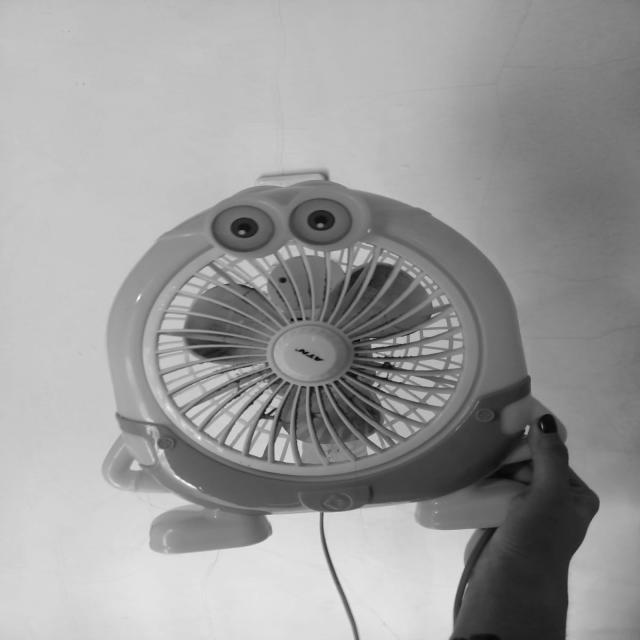fan: (99, 181, 572, 560)
